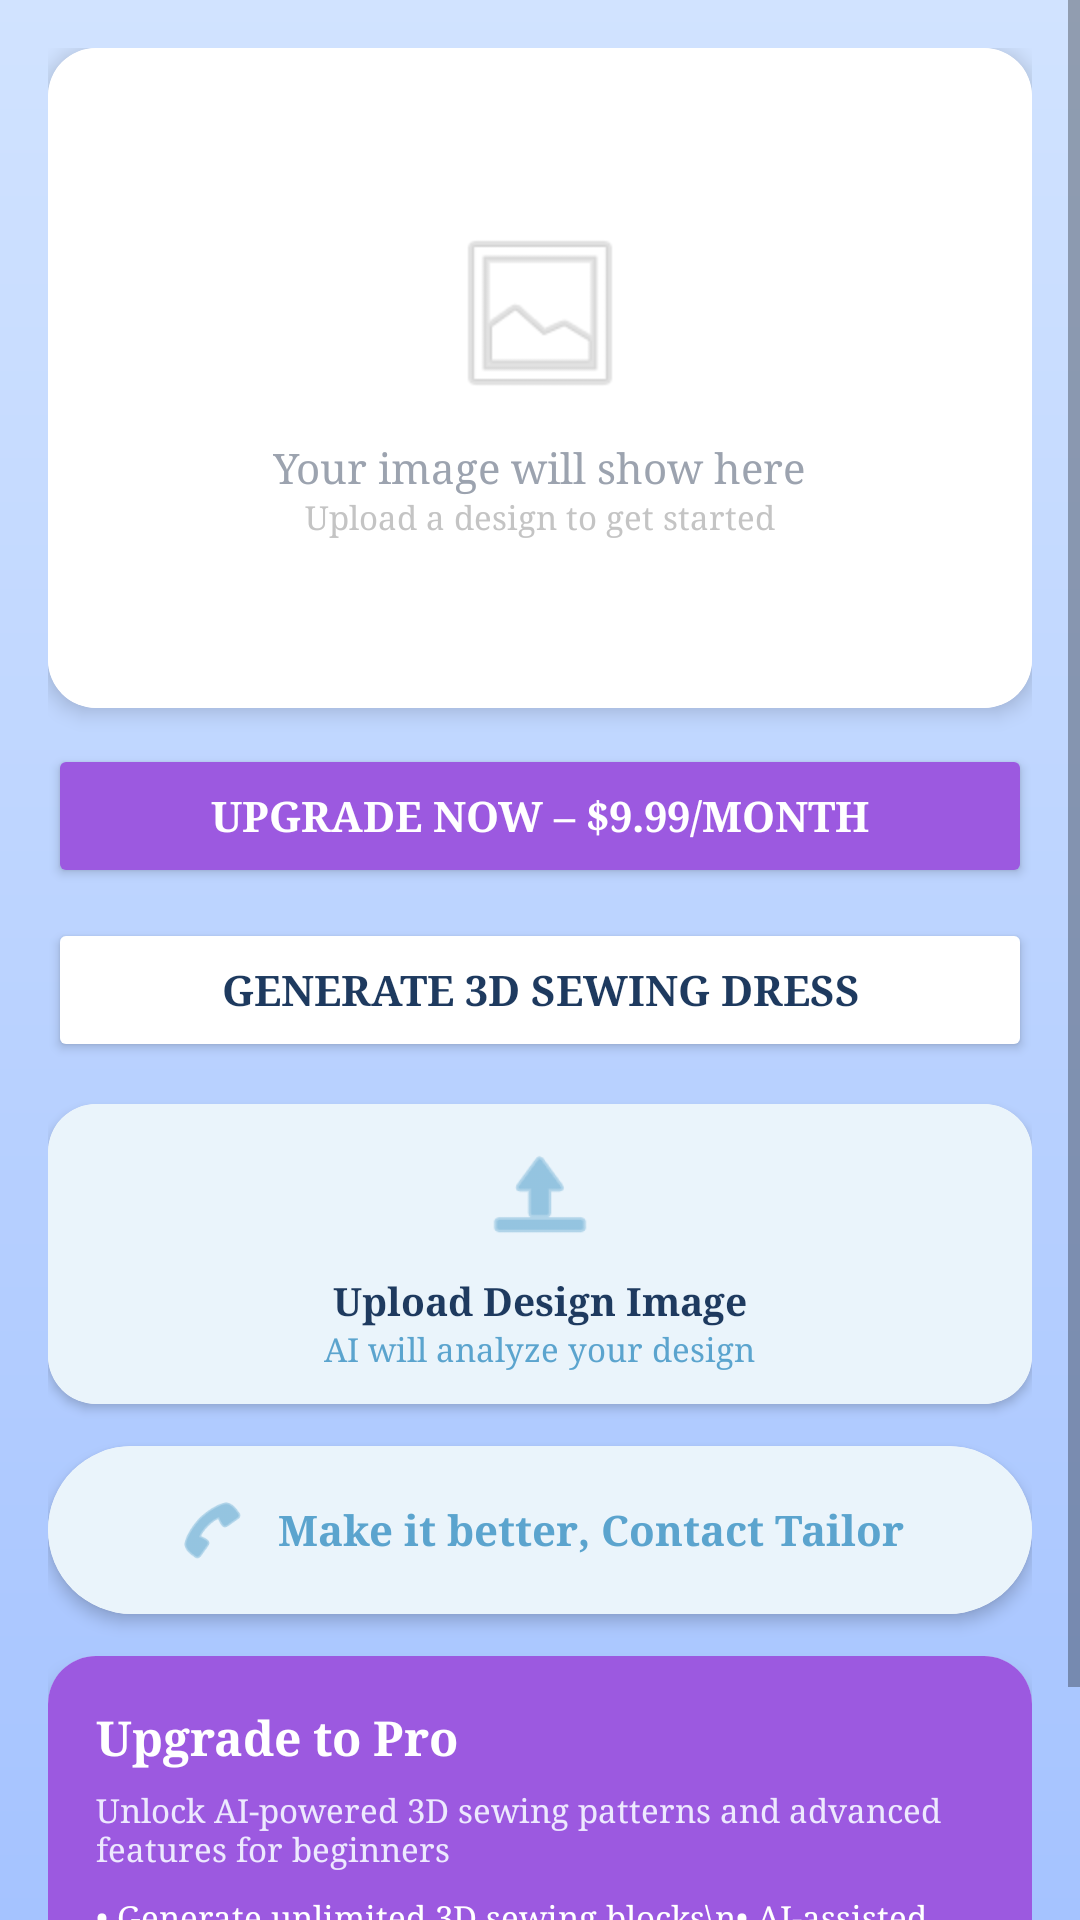

Screen size 1080px×1920px. Icon name, then its center in pixels as (x=x, y=y):
call: (x=212, y=1530)
gallery: (x=540, y=313)
